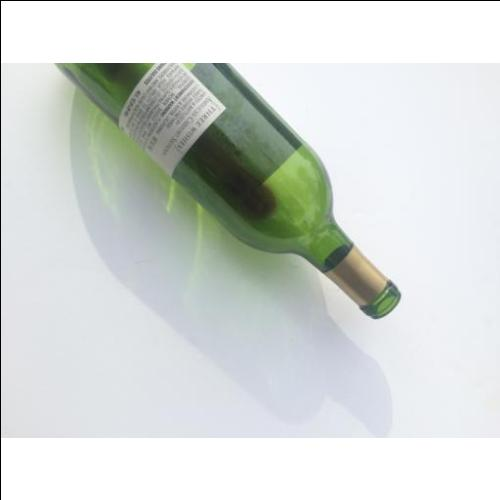glass: (56, 62, 400, 321)
